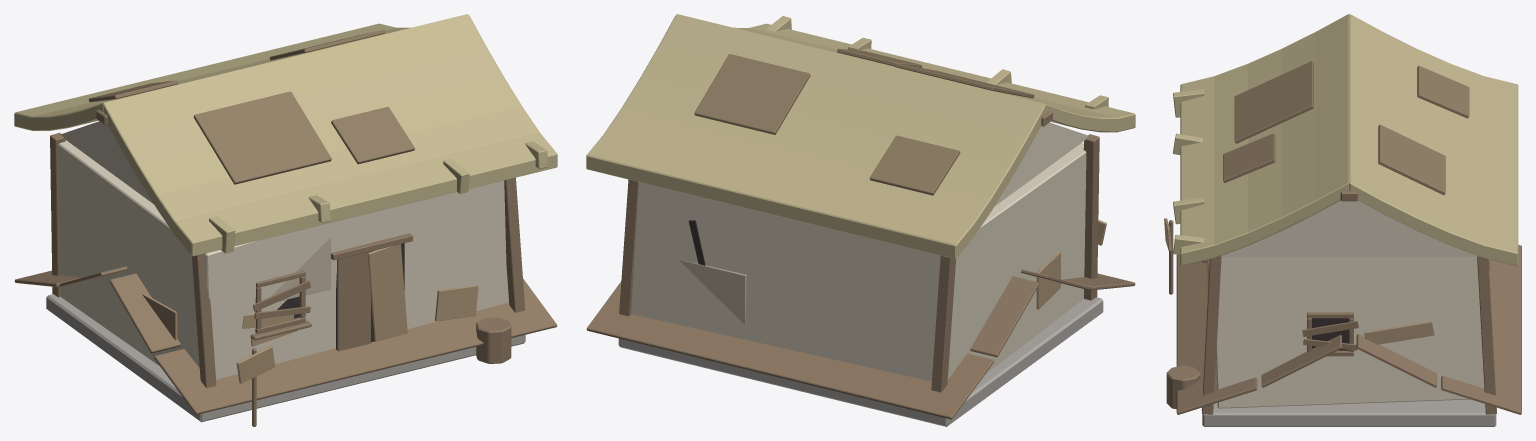
The model's file is house_l0.glb.
The picture shows the model from 3 angles, left to right: view 1: azimuth 30°, elevation 25°; view 2: azimuth 150°, elevation 25°; view 3: azimuth 270°, elevation 25°; orthographic projection. The views are drawn at different scales.
Visible parts, largest first — view 1: Roof_All, Wall_All, Decor_All; view 2: Roof_All, Wall_All; view 3: Roof_All, Wall_All, Decor_All.
Part boxes in pixels (x1,y1,x2,y2): Roof_All: (14,14,557,414); Wall_All: (46,121,525,422); Decor_All: (236,317,511,426); Roof_All: (586,14,1135,419); Wall_All: (618,122,1103,426); Roof_All: (1173,14,1521,414); Wall_All: (1201,200,1496,426); Decor_All: (1164,218,1200,409).
Size of the model in its own units: 6.5 by 4.48 by 5.72.
